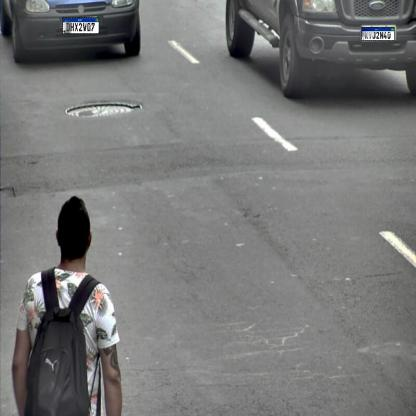PlacaM: (62, 17, 100, 34), (361, 27, 395, 41)
